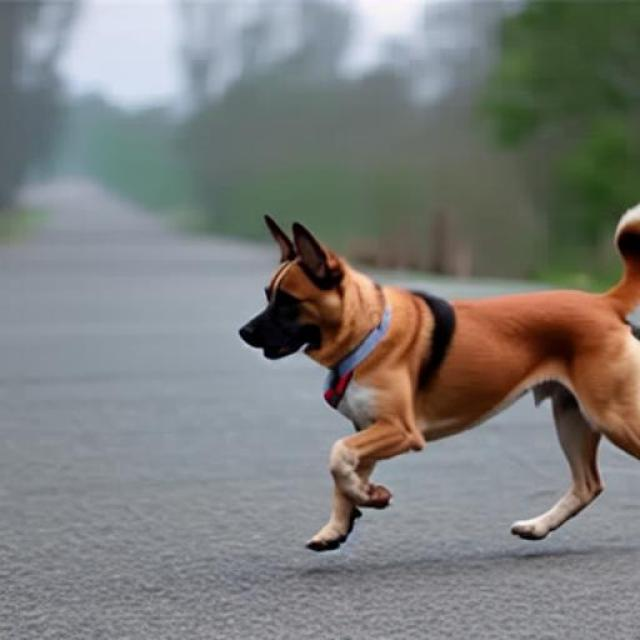Dog: (237, 201, 640, 551)
